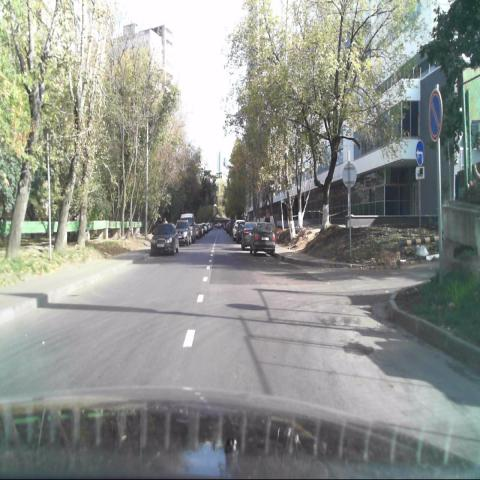3_28: (427, 88, 444, 145)
4_1_3: (415, 140, 425, 166)
